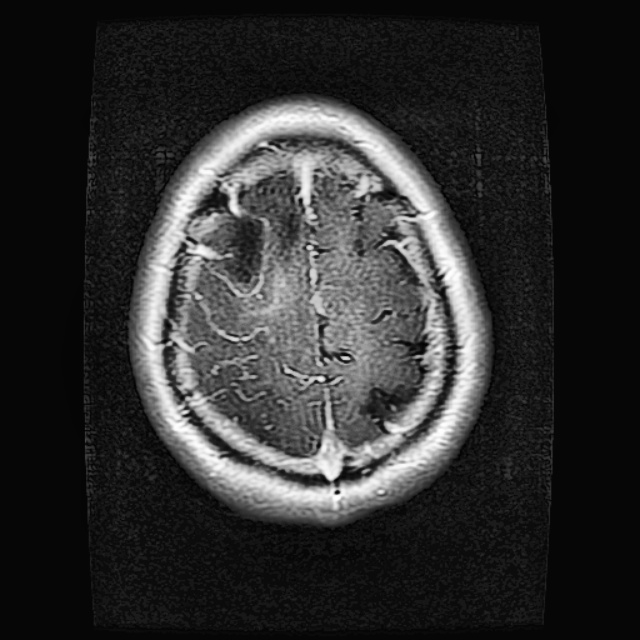Pituitary: (199, 209, 269, 298)
